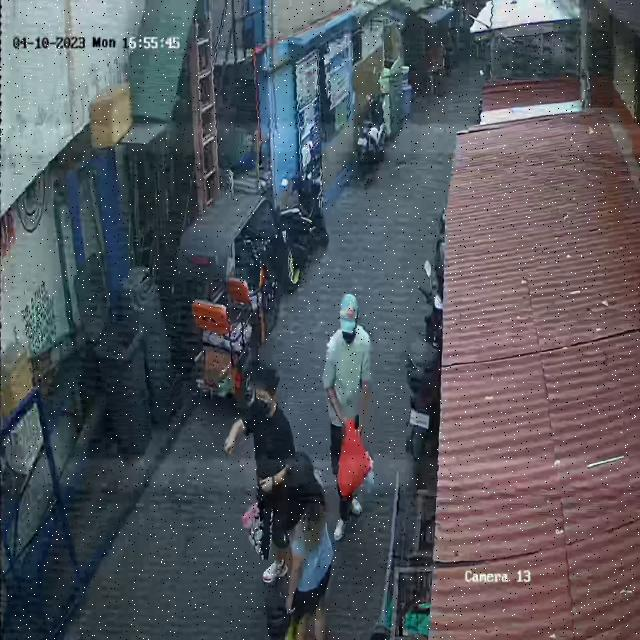garbage_dumping: (336, 415, 368, 497), (261, 567, 292, 640)
